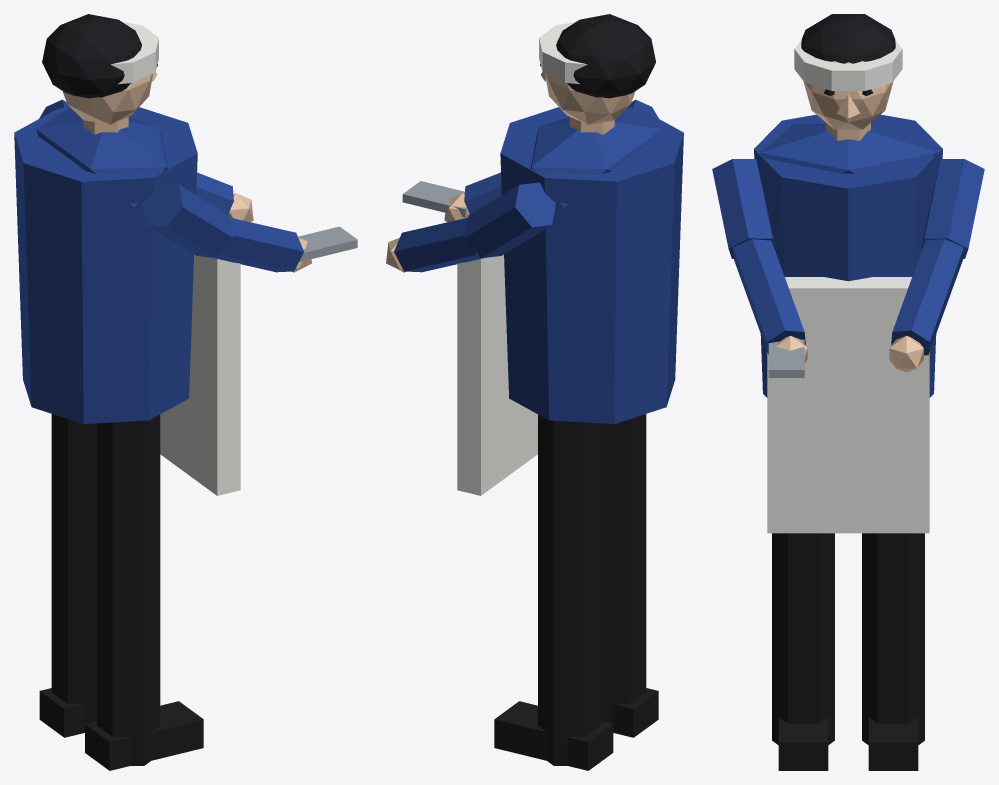
File: forsaljare.glb
3 renders of one model, left to right at view 1: azimuth 30°, elevation 25°; view 2: azimuth 150°, elevation 25°; view 3: azimuth 270°, elevation 25°, orthographic.
Parts seen in each view (by area): view 1: forsaljare; view 2: forsaljare; view 3: forsaljare.
Part boxes in pixels (x1,y1,x2,y2): forsaljare: (14, 14, 357, 770); forsaljare: (386, 14, 683, 770); forsaljare: (712, 14, 984, 770).
Bounding box in the file's own units: 0.75 × 1.76 × 0.6056.
